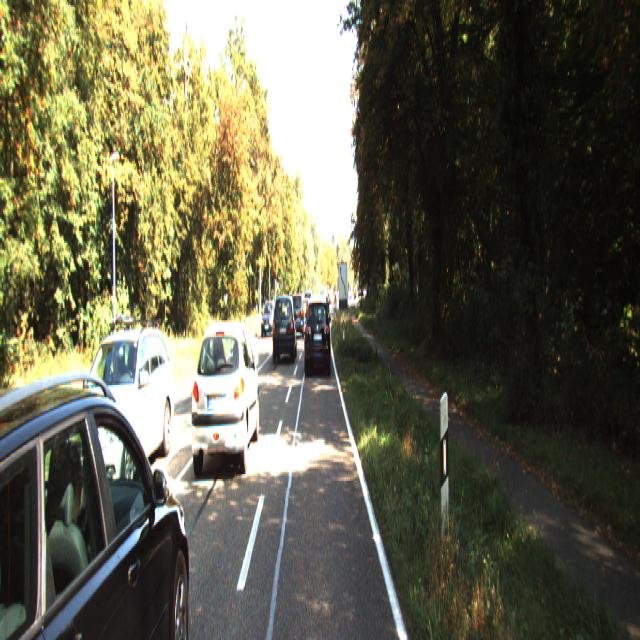Car: (0, 340, 194, 638), (59, 322, 176, 508), (191, 312, 259, 472), (304, 292, 331, 372), (272, 292, 297, 361)
